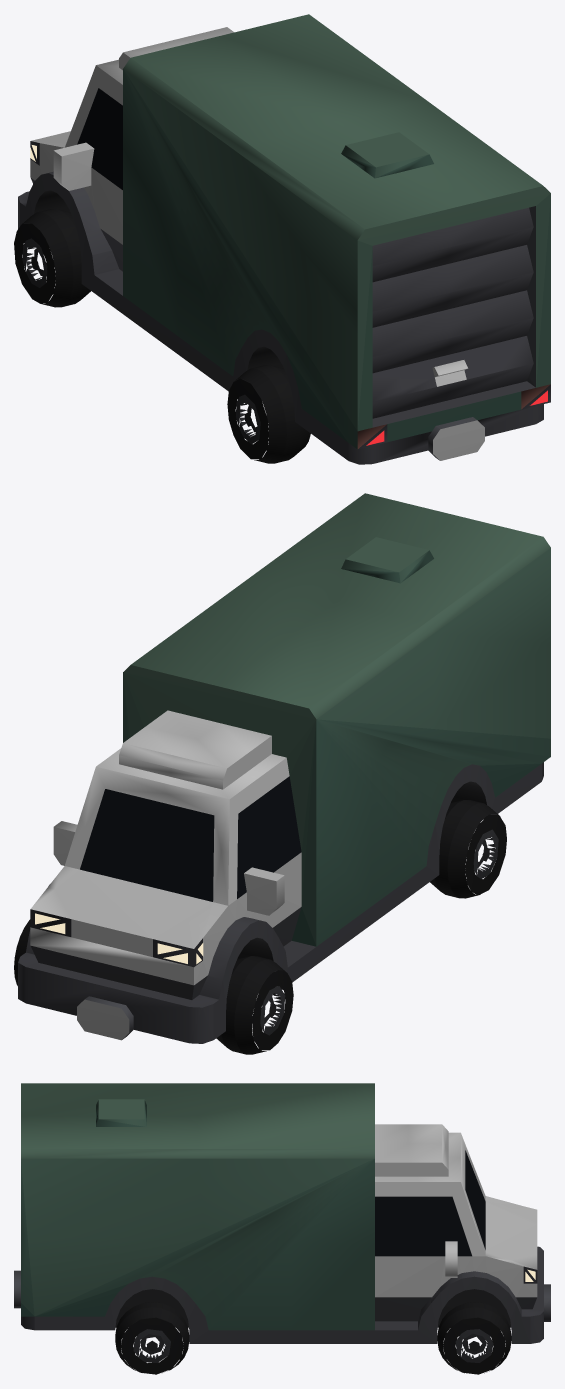
The model's file is ov_delivery.glb.
3 views of the same model, one above another, from view 1: azimuth 30°, elevation 25°; view 2: azimuth 150°, elevation 25°; view 3: azimuth 270°, elevation 25° (orthographic). The views are drawn at different scales.
Visible parts, largest first — view 1: Body, WheelRL, WheelFL; view 2: Body, WheelFL, WheelRL; view 3: Body, WheelFR, WheelRR.
Part boxes in pixels (bbox=[...]): Body: bbox=[18, 14, 550, 464]; WheelRL: bbox=[227, 365, 310, 463]; WheelFL: bbox=[14, 209, 90, 307]; Body: bbox=[18, 493, 550, 1043]; WheelFL: bbox=[216, 956, 293, 1054]; WheelRL: bbox=[430, 800, 506, 898]; Body: bbox=[14, 1083, 550, 1343]; WheelFR: bbox=[437, 1302, 511, 1374]; WheelRR: bbox=[115, 1302, 189, 1374].
Size of what is drawn, in the model's own units: 2.24 by 2.7 by 5.8.
